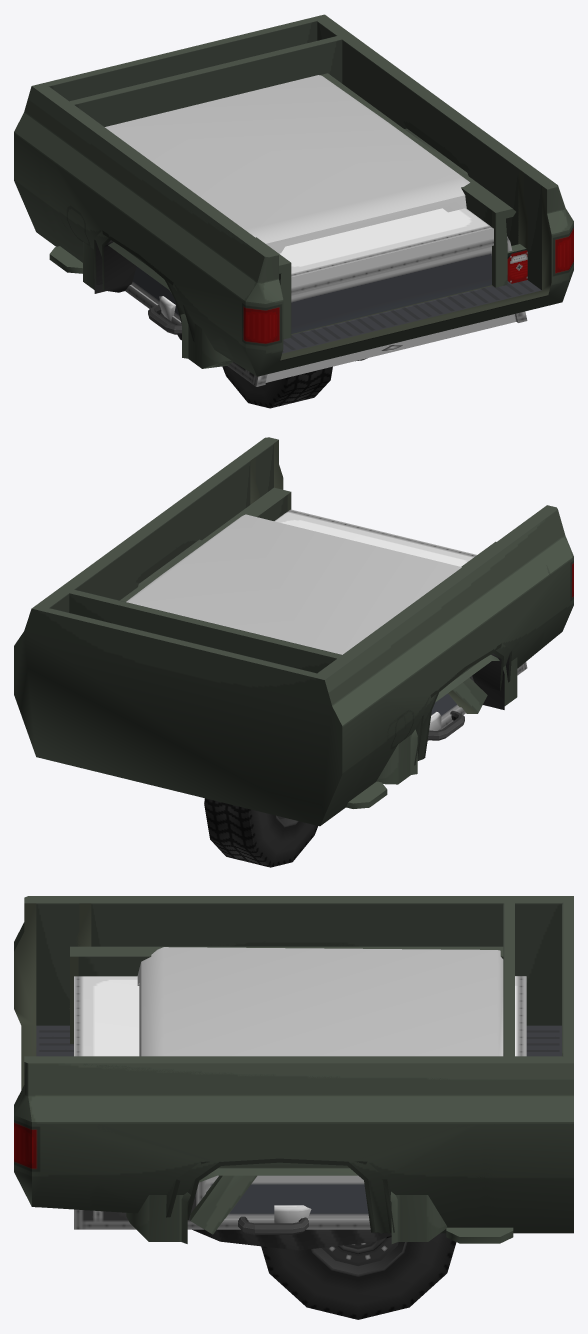
Rendered from fr_worldmodels.fbx.
3 renders of one model, top to bottom at view 1: azimuth 30°, elevation 25°; view 2: azimuth 150°, elevation 25°; view 3: azimuth 270°, elevation 25°, orthographic. The views are drawn at different scales.
Parts seen in each view (by area): view 1: bedlong, roofconverthard, bedshort, bed_cap_hard, bedstepside, wheeloffroadmilequipped; view 2: bedlong, roofconverthard, bedshort, bedstepside, wheeloffroadmilequipped, bed_cap_hard, roofthardtruck; view 3: bedlong, bedshort, roofconverthard, bed_cap_hard, wheeloffroadmilequipped, bedstepside, wheelhugetractorequipped, roofthardtruck, bumperoffroad, bumper.
Part boxes in pixels (x1=…): bedlong: x1=14, y1=14, x2=573, y2=376; roofconverthard: x1=105, y1=75, x2=469, y2=253; bedshort: x1=39, y1=36, x2=534, y2=359; bed_cap_hard: x1=125, y1=208, x2=527, y2=386; bedstepside: x1=49, y1=73, x2=527, y2=368; wheeloffroadmilequipped: x1=222, y1=366, x2=332, y2=408; bedlong: x1=14, y1=437, x2=573, y2=826; roofconverthard: x1=126, y1=514, x2=461, y2=654; bedshort: x1=66, y1=454, x2=550, y2=807; bedstepside: x1=120, y1=487, x2=517, y2=808; wheeloffroadmilequipped: x1=204, y1=798, x2=317, y2=867; bed_cap_hard: x1=274, y1=509, x2=527, y2=740; roofthardtruck: x1=448, y1=677, x2=487, y2=713; bedlong: x1=14, y1=896, x2=573, y2=1233; bedshort: x1=69, y1=896, x2=514, y2=1232; roofconverthard: x1=137, y1=947, x2=503, y2=1056; bed_cap_hard: x1=74, y1=976, x2=526, y2=1229; wheeloffroadmilequipped: x1=261, y1=1233, x2=456, y2=1319; bedstepside: x1=70, y1=946, x2=513, y2=1243; wheelhugetractorequipped: x1=192, y1=1229, x2=391, y2=1250; roofthardtruck: x1=190, y1=1175, x2=256, y2=1234; bumperoffroad: x1=238, y1=1216, x2=308, y2=1234; bumper: x1=274, y1=1205, x2=311, y2=1223.
Bounding box in the file's own units: 203 × 165 × 256.
